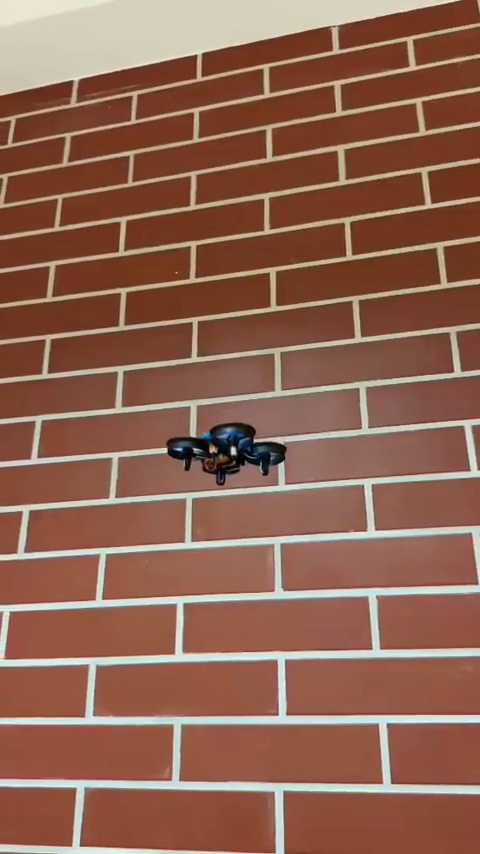drone: (164, 423, 285, 487)
